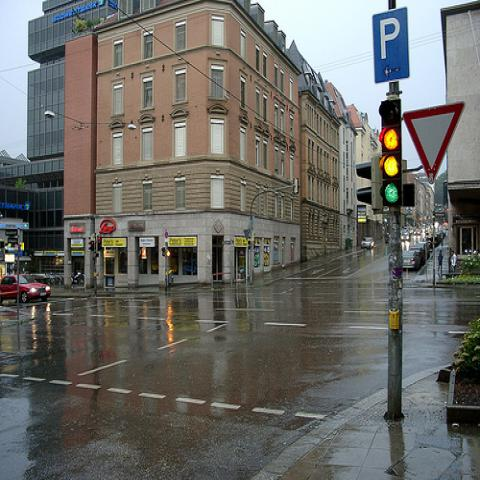car: (400, 226, 449, 278), (0, 274, 51, 304), (413, 243, 430, 264), (409, 246, 424, 264), (360, 236, 374, 249), (385, 233, 391, 243), (414, 229, 420, 235), (428, 241, 432, 248)
